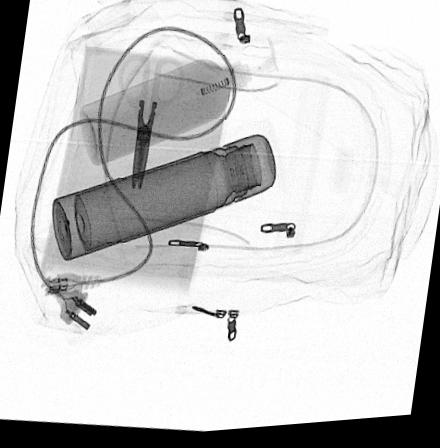Scissors: (115, 54, 185, 192)
